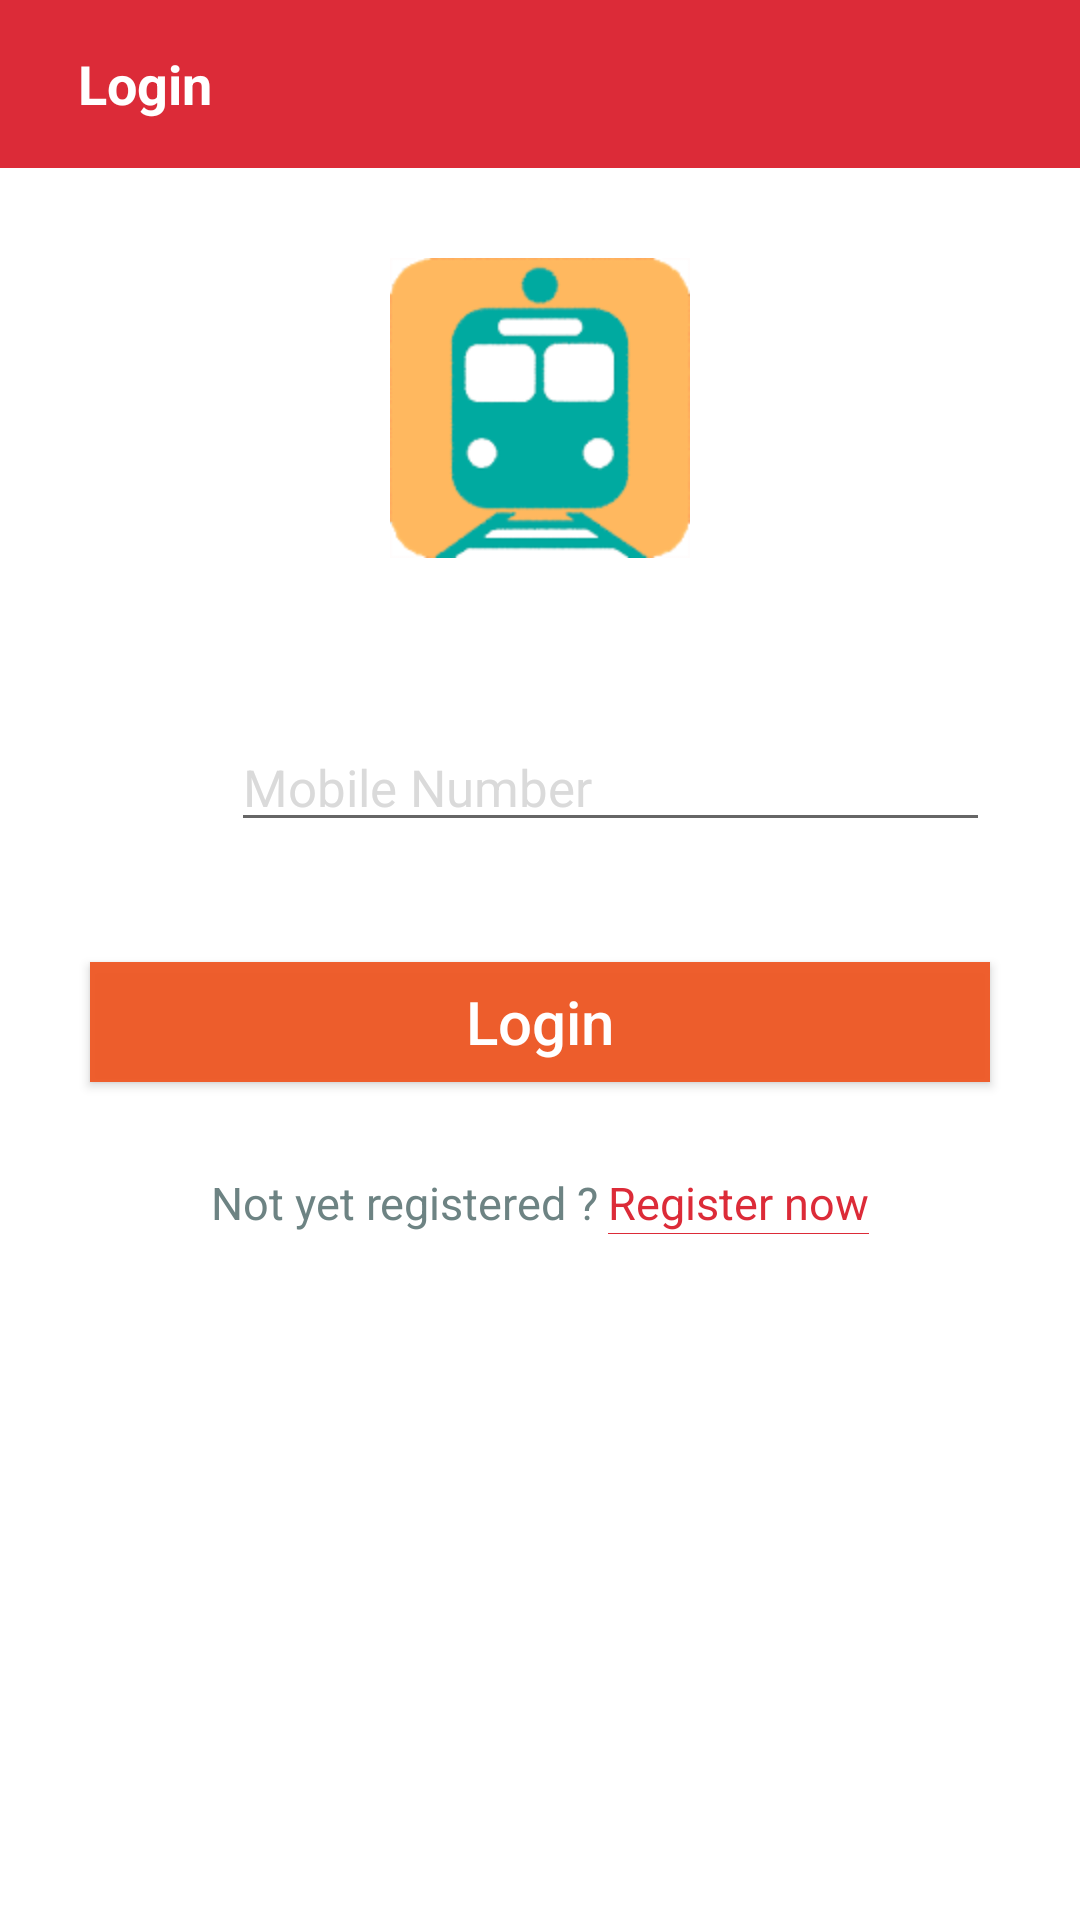

Point at icon controls on the screen. Image size 1080w x 1920h, points as point (x, y).
railquarters: point (540, 408)
